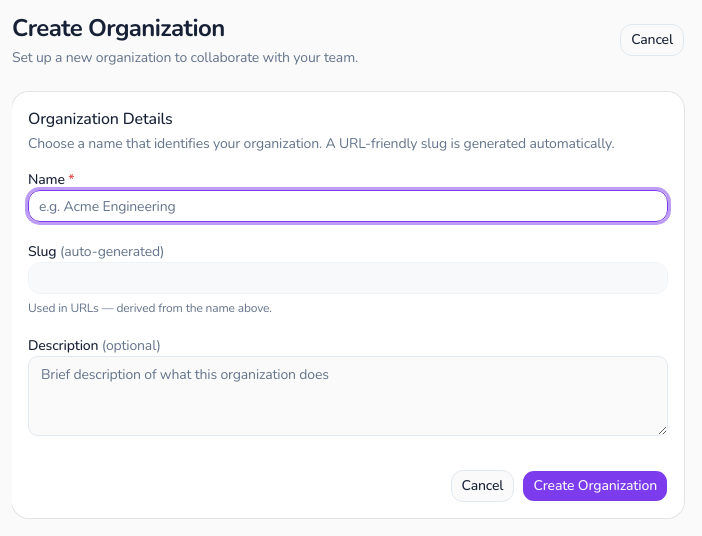
Test case: NewOrgClient › derives a URL-friendly slug from the name
The width and height of the screenshot is (702, 536).
Type "Acme Engineering" into the field labelled "Name *" at (348,206), box [28,190,668,222]
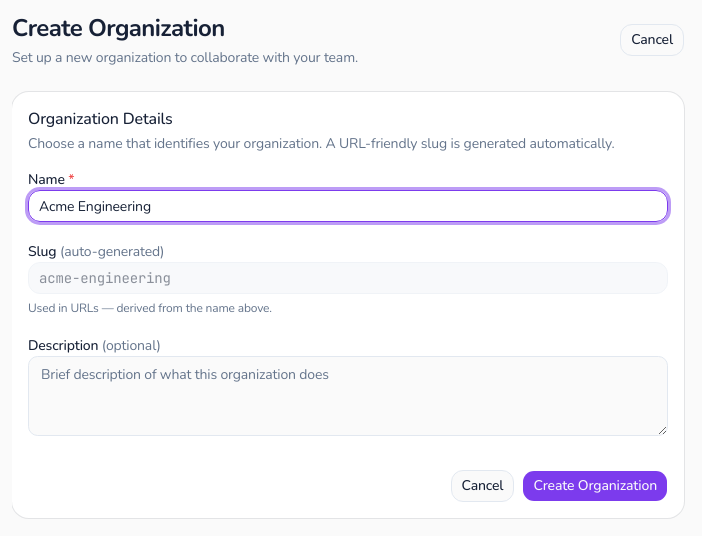
Now the field labelled "Slug (auto-generated)" holds "acme-engineering", box [28,262,668,294]
